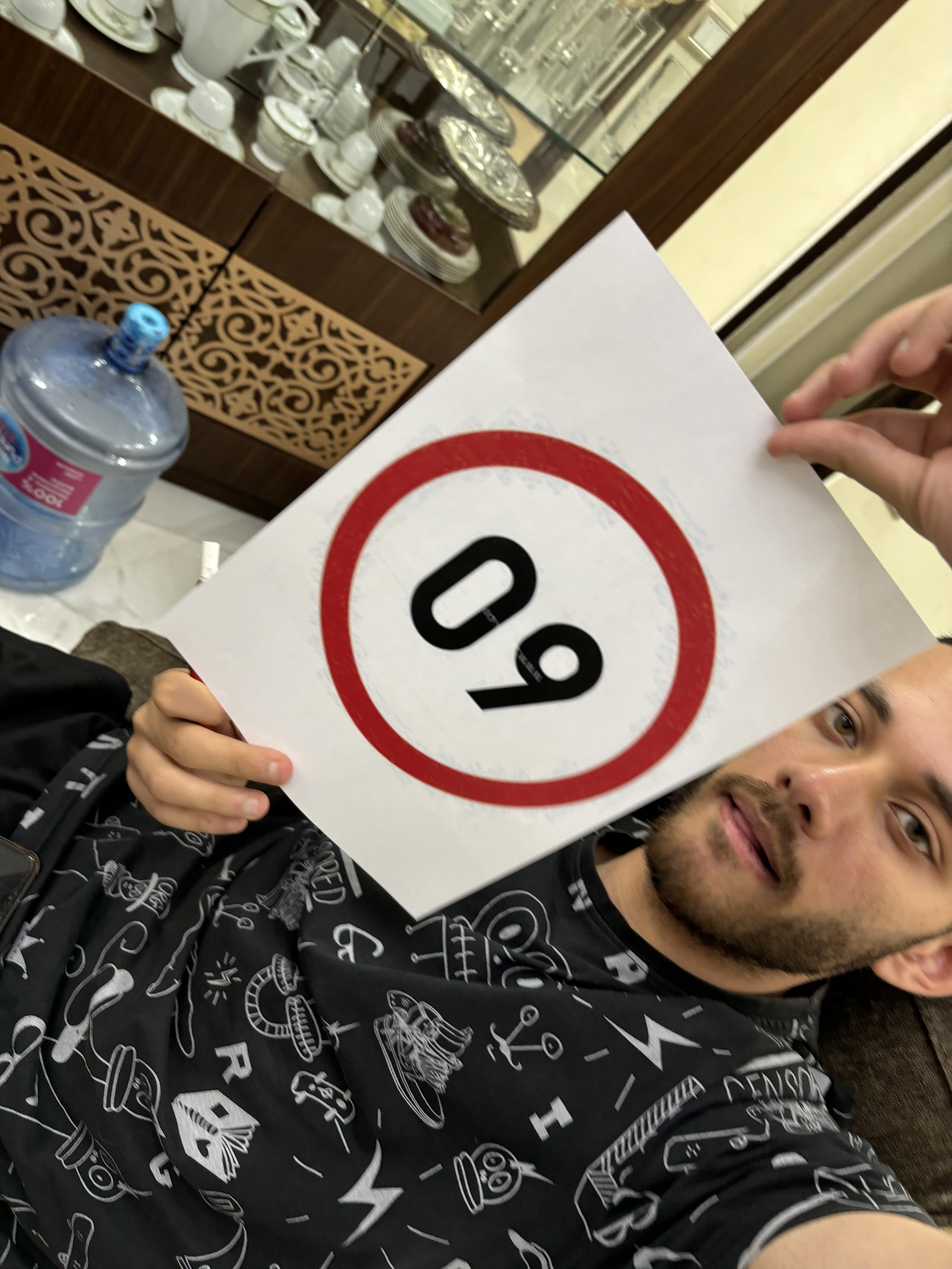60-Speed: (325, 427, 717, 794)
